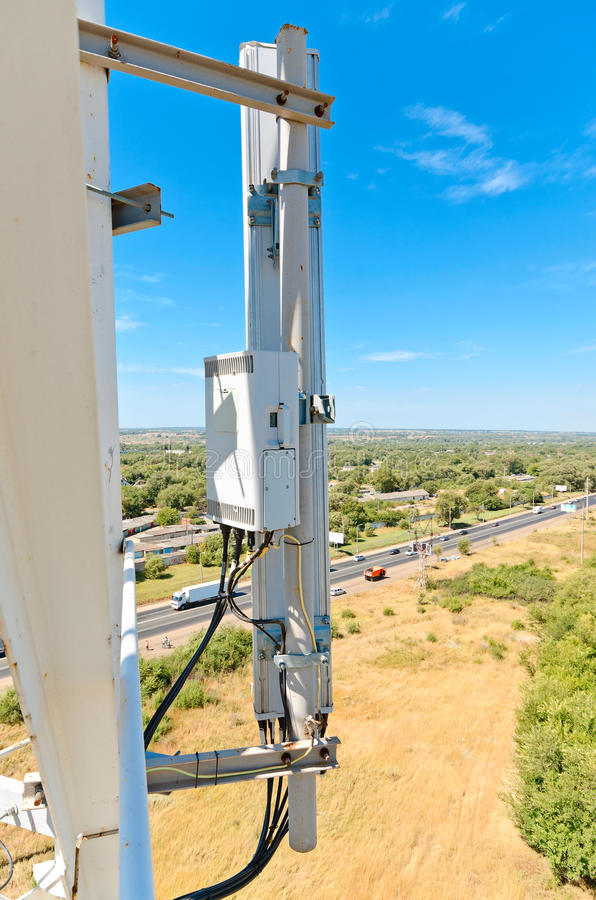sa: (261, 27, 313, 342)
